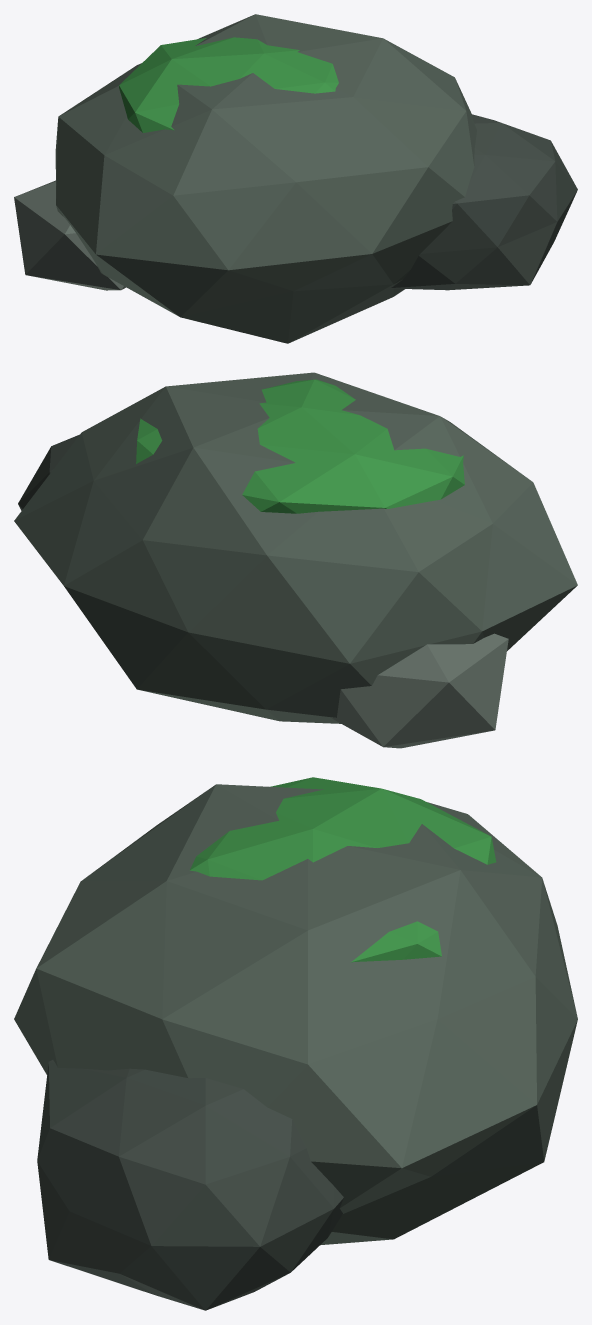
File: EM_MossBoulder_Cluster.glb
The picture shows the model from 3 angles, top to bottom: view 1: azimuth 30°, elevation 25°; view 2: azimuth 150°, elevation 25°; view 3: azimuth 270°, elevation 25°; orthographic projection. The views are drawn at different scales.
Visible parts, largest first — view 1: EM_MossBoulder_Cluster__CliffRock, EM_MossBoulder_Cluster__StoneDark, EM_MossBoulder_Cluster__MossCap, EM_MossBoulder_Cluster__StoneBase; view 2: EM_MossBoulder_Cluster__CliffRock, EM_MossBoulder_Cluster__MossCap, EM_MossBoulder_Cluster__StoneBase, EM_MossBoulder_Cluster__StoneDark; view 3: EM_MossBoulder_Cluster__CliffRock, EM_MossBoulder_Cluster__StoneDark, EM_MossBoulder_Cluster__MossCap.
Boxes of the visible parts, <box> form: EM_MossBoulder_Cluster__CliffRock: <box>55,14,476,343</box>; EM_MossBoulder_Cluster__StoneDark: <box>390,114,577,290</box>; EM_MossBoulder_Cluster__MossCap: <box>119,37,338,132</box>; EM_MossBoulder_Cluster__StoneBase: <box>14,180,125,290</box>; EM_MossBoulder_Cluster__CliffRock: <box>14,372,577,723</box>; EM_MossBoulder_Cluster__MossCap: <box>136,379,464,513</box>; EM_MossBoulder_Cluster__StoneBase: <box>332,633,508,748</box>; EM_MossBoulder_Cluster__StoneDark: <box>18,434,79,510</box>; EM_MossBoulder_Cluster__CliffRock: <box>14,784,577,1245</box>; EM_MossBoulder_Cluster__StoneDark: <box>37,1060,343,1310</box>; EM_MossBoulder_Cluster__MossCap: <box>190,777,496,962</box>.
Size of the model in its own units: 15.24 by 8.01 by 11.01.
